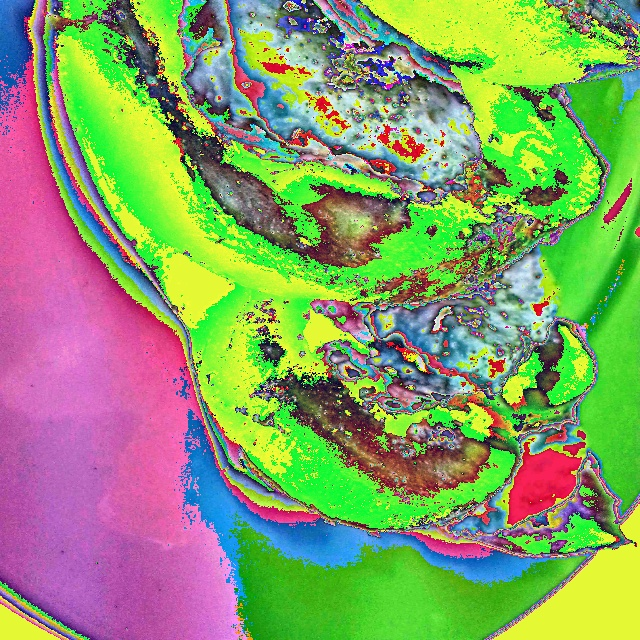background: (41, 0, 639, 557)
